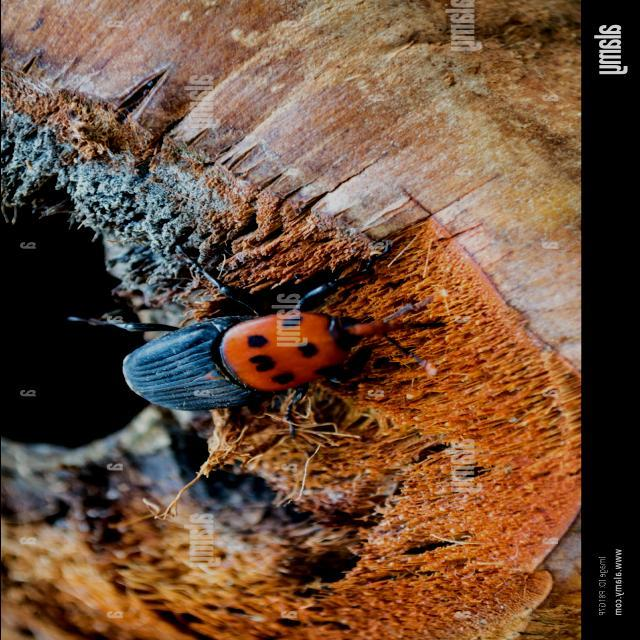Red-palm-weevil: (120, 293, 444, 412)
